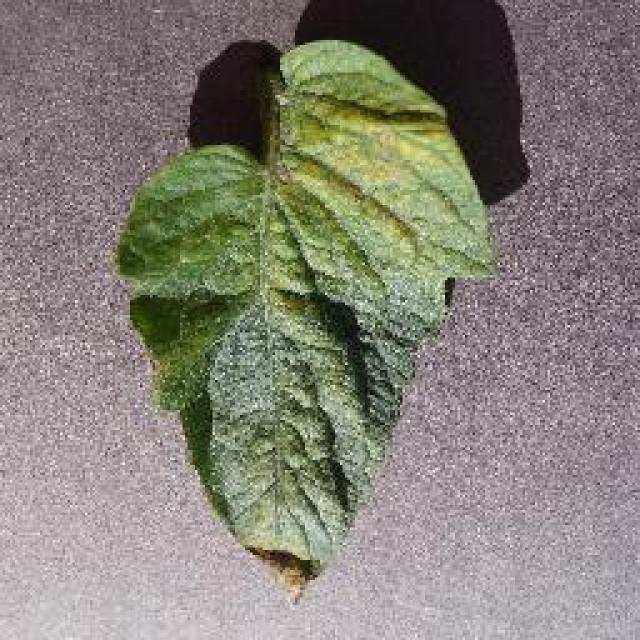Tomato___Spider_mites Two-spotted_spider_mite: (115, 40, 492, 600)
